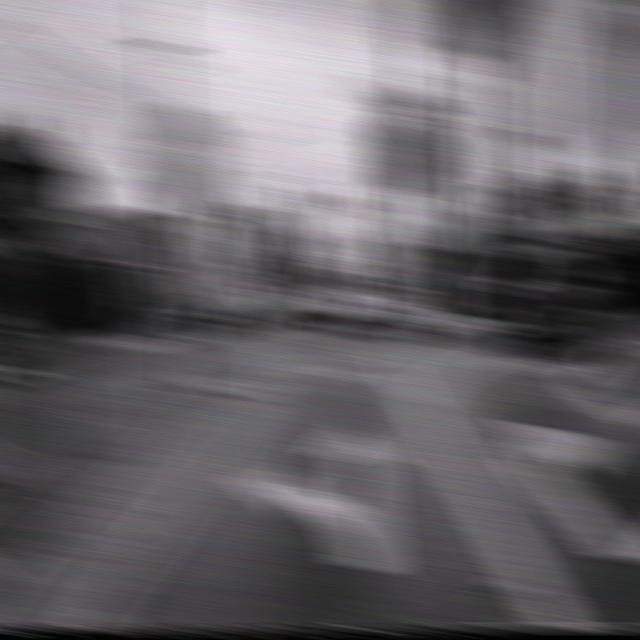stop_sign: (143, 101, 222, 221)
